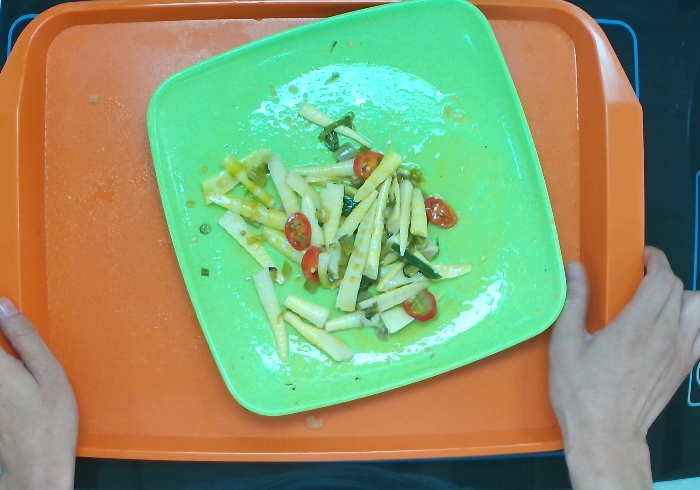ZNLD-Lv_Fang_Pan: (147, 1, 575, 413)
